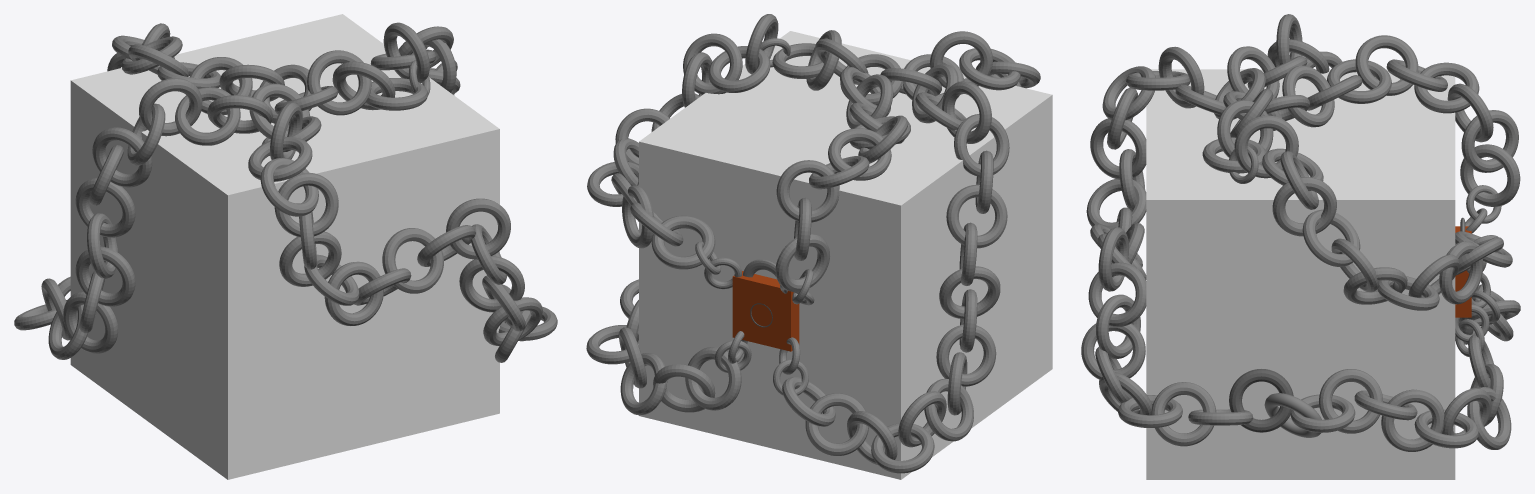
Rendered from chainboxFBXNEW.fbx.
3 views of the same model, side by side, from view 1: azimuth 30°, elevation 25°; view 2: azimuth 150°, elevation 25°; view 3: azimuth 270°, elevation 25° (orthographic). The views are drawn at different scales.
Parts seen in each view (by area): view 1: Cube, Torus.022, Torus.018, Torus.115, Torus.009, Torus.016, Torus.130, Torus.131, Torus.007, Torus.124, Torus.128, Torus.127 (+36 smaller); view 2: Cube, Cube.001, Torus.045, Torus.100, Torus.125, Torus.119, Torus.102, Torus.041, Torus.129, Torus.121, Torus.126, Torus.033 (+43 smaller); view 3: Cube, Torus.002, Torus, Torus.012, Torus.046, Torus.014, Torus.035, Torus.113, Torus.008, Torus.044, Torus.021, Torus.110 (+54 smaller).
Part boxes in pixels (x1,y1,x2,y2): Cube: [70, 14, 499, 479]; Torus.022: [274, 172, 338, 237]; Torus.018: [382, 228, 443, 293]; Torus.115: [307, 50, 371, 115]; Torus.009: [446, 198, 510, 259]; Torus.016: [324, 261, 383, 325]; Torus.130: [139, 78, 202, 136]; Torus.131: [175, 87, 240, 145]; Torus.007: [459, 256, 524, 312]; Torus.124: [75, 246, 135, 306]; Torus.128: [92, 127, 152, 187]; Torus.127: [75, 177, 135, 237]; Cube: [639, 31, 1052, 479]; Cube.001: [732, 271, 799, 351]; Torus.045: [776, 160, 839, 222]; Torus.100: [805, 393, 868, 455]; Torus.125: [946, 184, 1007, 248]; Torus.119: [936, 324, 996, 386]; Torus.102: [651, 215, 715, 269]; Torus.041: [685, 347, 741, 410]; Torus.129: [954, 114, 1009, 176]; Torus.121: [871, 423, 934, 473]; Torus.126: [939, 266, 1000, 318]; Torus.033: [828, 128, 891, 180]; Cube: [1146, 69, 1455, 479]; Torus.002: [1151, 382, 1216, 446]; Torus: [1229, 369, 1293, 432]; Torus.012: [1319, 369, 1383, 433]; Torus.046: [1460, 144, 1520, 206]; Torus.014: [1381, 389, 1444, 451]; Torus.035: [1355, 35, 1418, 95]; Torus.113: [1272, 177, 1336, 236]; Torus.008: [1088, 262, 1146, 327]; Torus.044: [1461, 110, 1518, 172]; Torus.021: [1090, 118, 1146, 179]; Torus.110: [1234, 115, 1298, 178].
Bounding box in the file's own units: 286 × 248 × 285.
